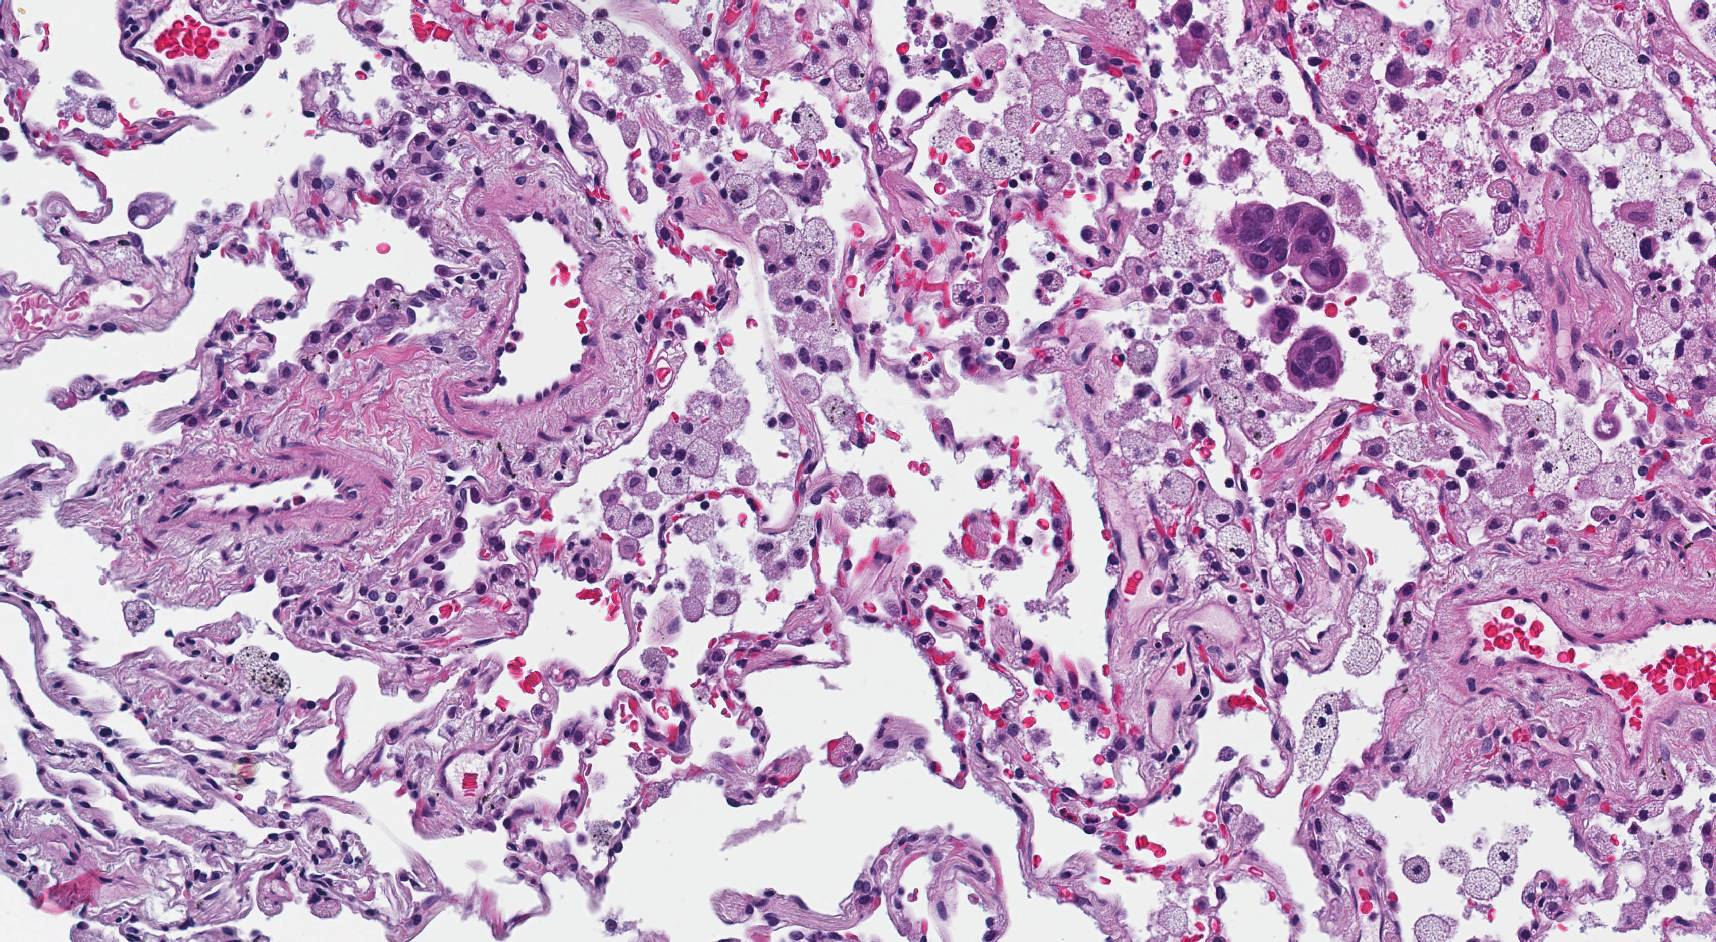stas: (1218, 198, 1353, 290), (1267, 306, 1341, 385)
